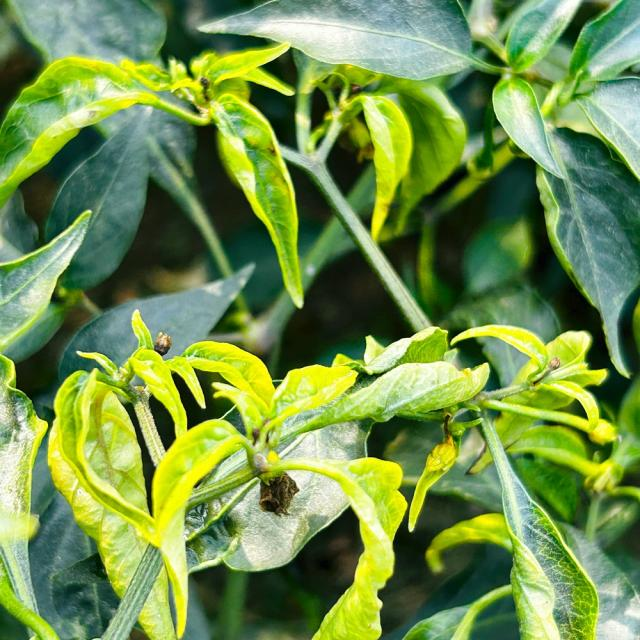Chilli_Leaf_Curl: (1, 1, 638, 638), (46, 309, 490, 638), (1, 41, 306, 308), (474, 405, 600, 638), (193, 0, 477, 81), (207, 92, 305, 308)
